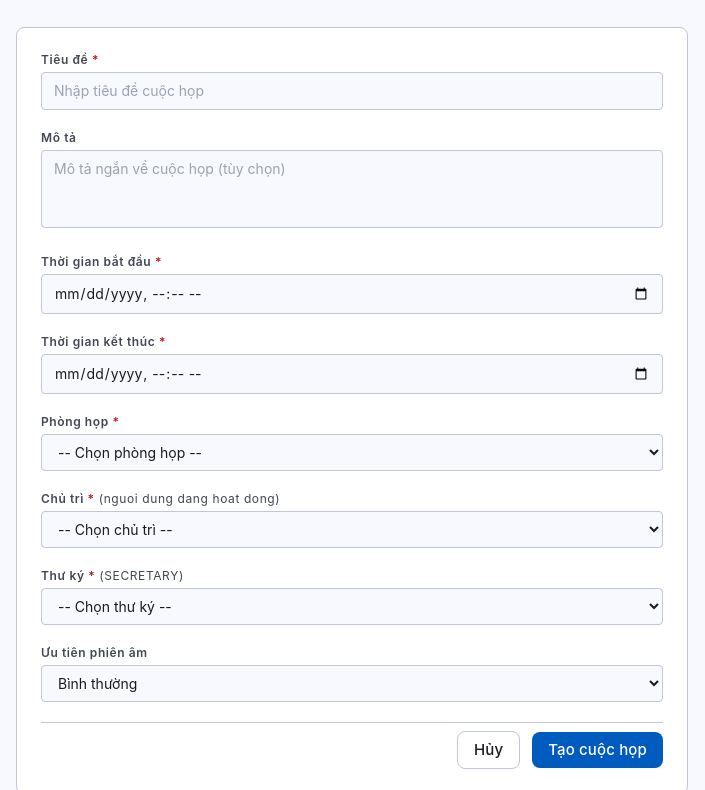
it: MeetingFormPage — validation errors on empty submit › shows all required field errors when submitting empty form
(page scrolled)
Click the button "Tạo cuộc họp": {"x": 598, "y": 750} [532,732,663,768]
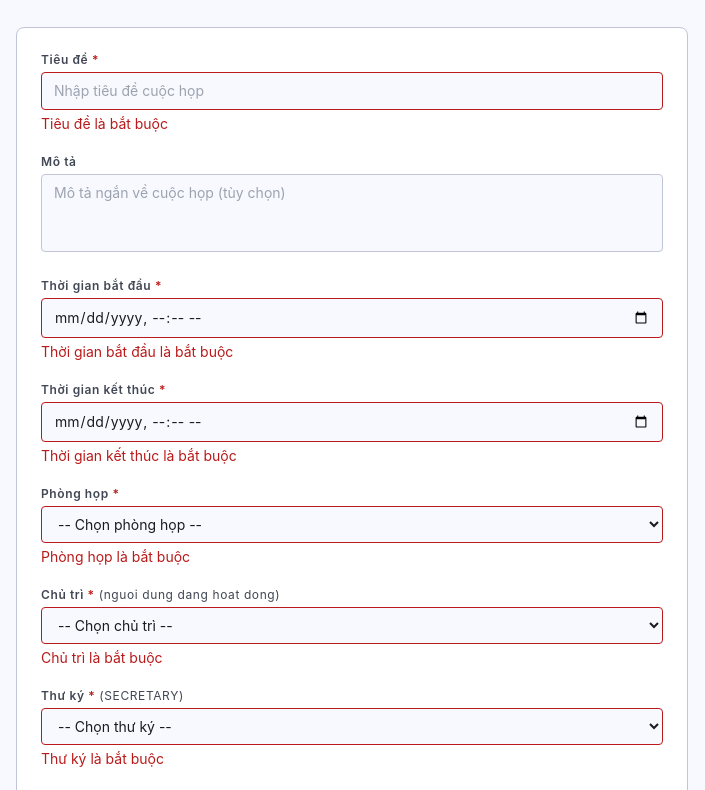
Expected: the text "Tiêu đề là bắt buộc" is shown, [41,115,168,132]
Expected: the text "Thời gian bắt đầu là bắt buộc" is shown, [41,343,233,360]
Expected: the text "Thời gian kết thúc là bắt buộc" is shown, [41,447,237,464]
